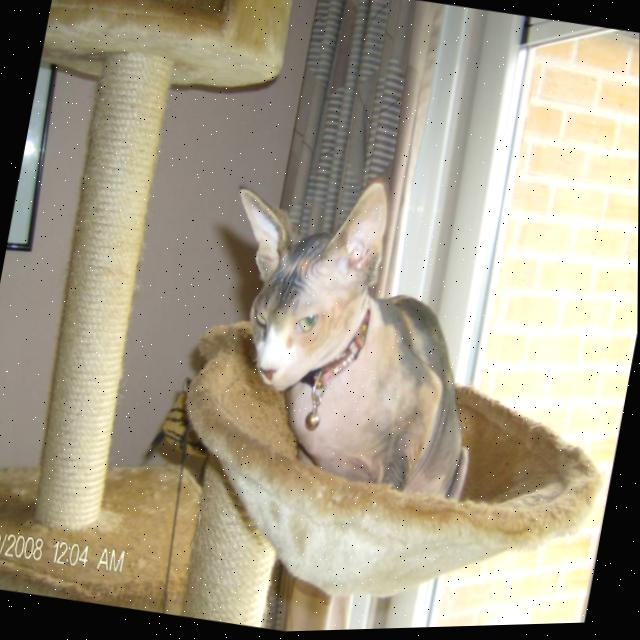Sphynx: (185, 148, 522, 518)
